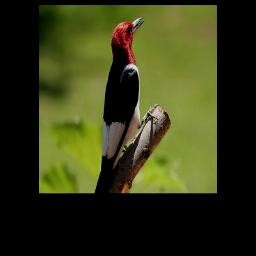Woodpecker: (93, 13, 148, 193)
